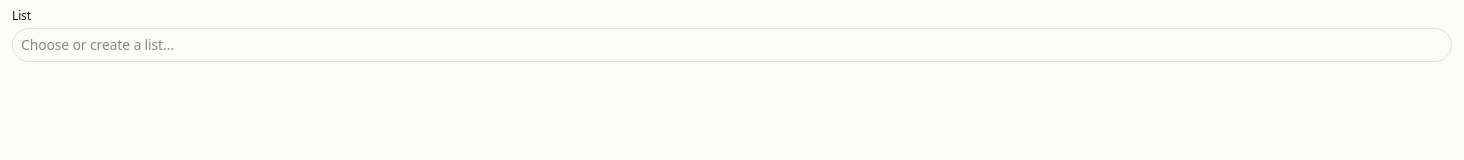
Test case: AddToList result handling › adds an existing place to the picked list and reports it
The image size is (1464, 160).
Type "Porto" into the dropdown with test id "add-list-choice". click: (732, 45)
box: [12,28,1452,62]
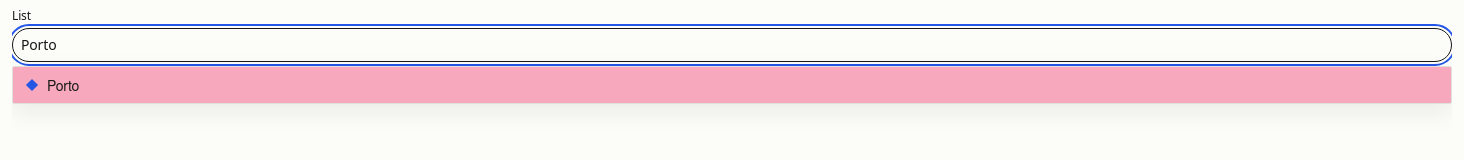
Click the option with test id "add-option-list-2". click: (63, 85)
box: [13,67,1451,103]
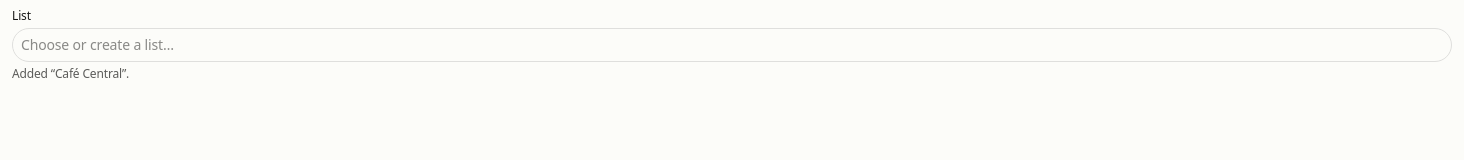
Result: the text with test id "add-message" shows "Added" at [12,65,129,82]
